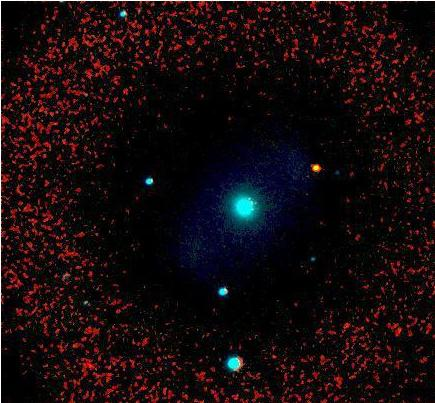star: (303, 151, 333, 181)
